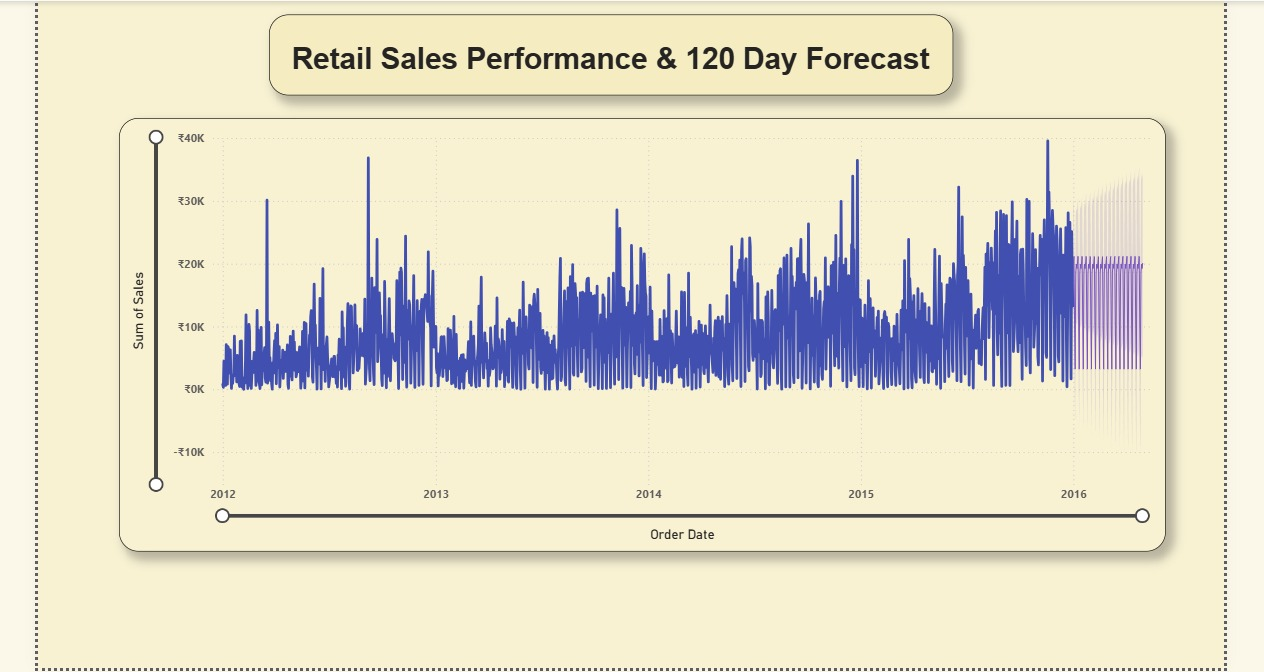

What the dashboard file says about the page in this screenshot:
{"tool":"powerbi","page":{"name":"Page 1","canvas":[1280,720],"ordinal":1},"visuals":[{"type":"lineChart","title":"Sales forecast - 120 days","fields":{"Category":["Orders.Order Date"],"Y":["Sum(Orders.Sales)"]},"box":[88,126.6,1130.1,467.9],"z":0},{"type":"textbox","box":[249.4,14.6,738.4,87.4],"z":1000}]}

Visuals, with their boxes on the page's 1280x720 design canvas (x1, y1, x2, y2). These are canvas units, not pixel positions in the 1264x672 screenshot, which may show the page scaled, cropped or inside an application window:
"Sales forecast - 120 days" lineChart: (88, 127, 1218, 594)
textbox: (249, 15, 988, 102)
